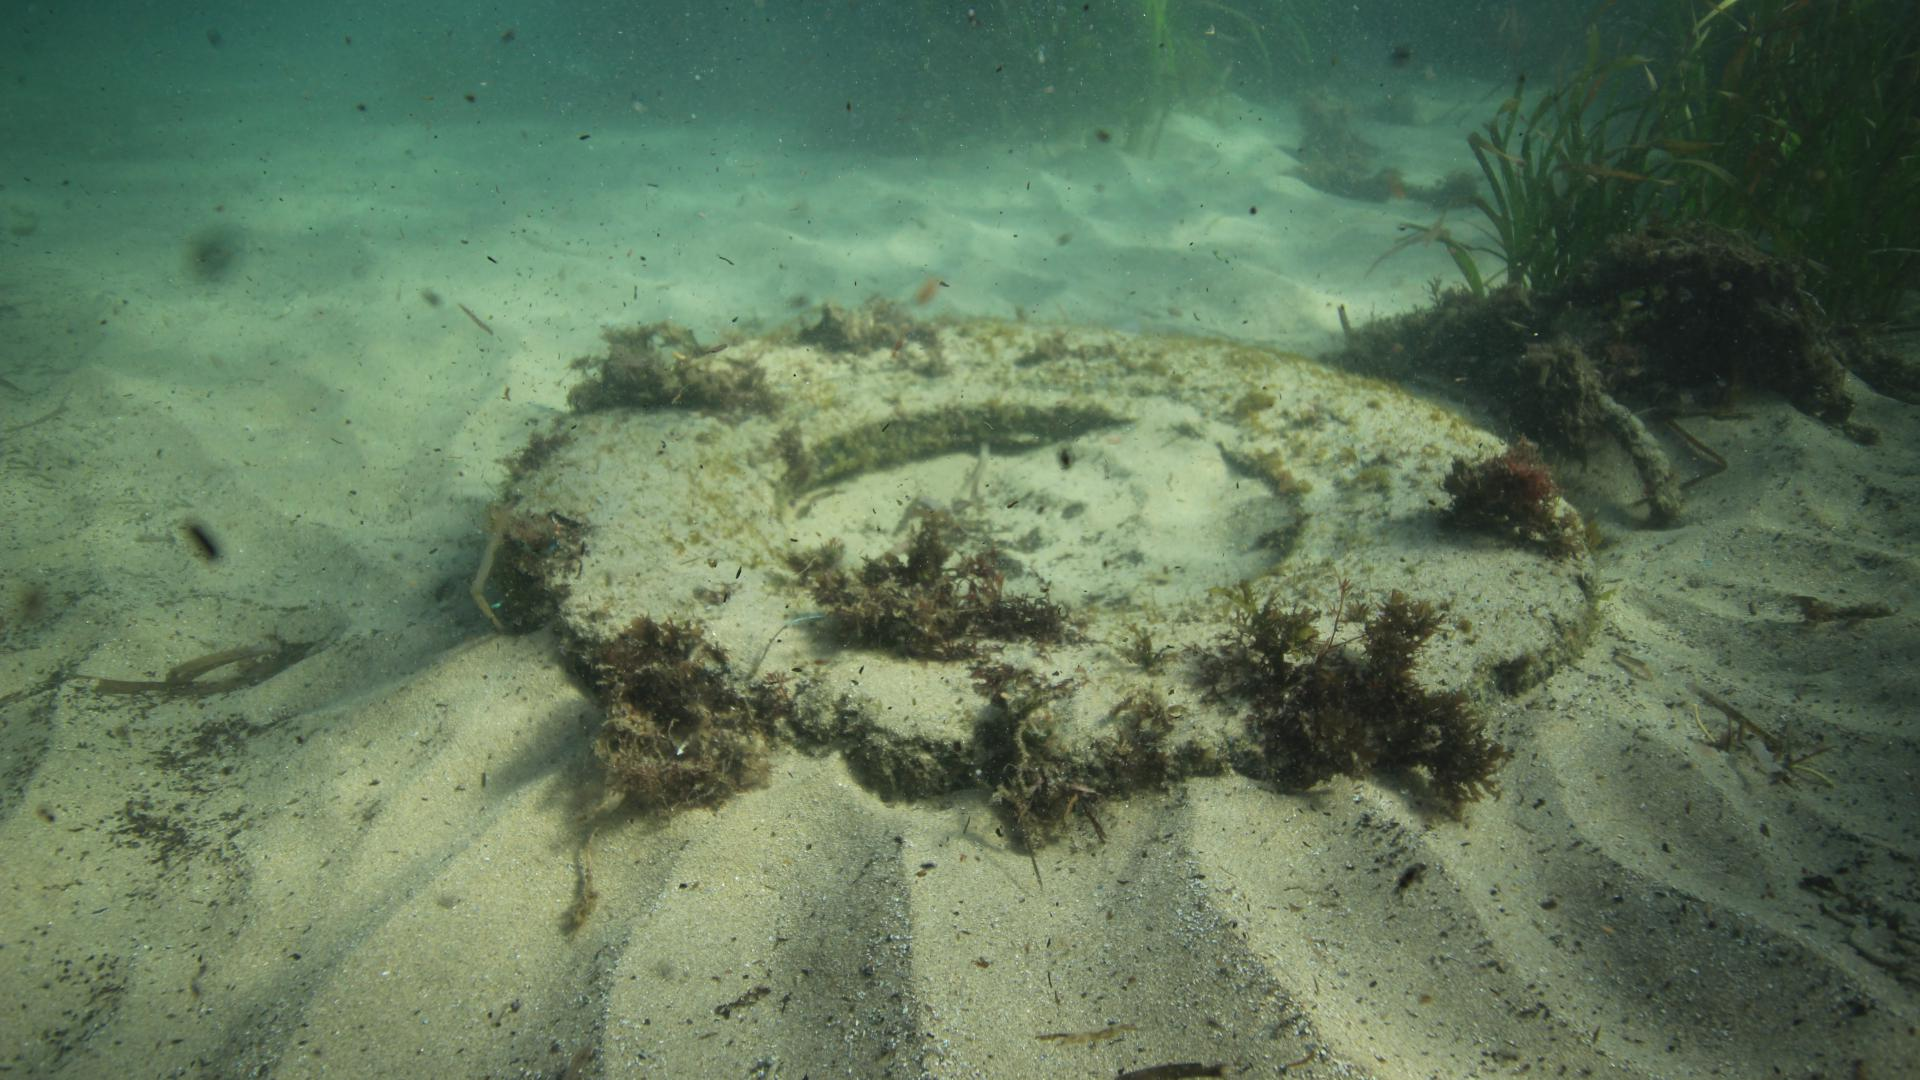tire: (498, 314, 1598, 798)
